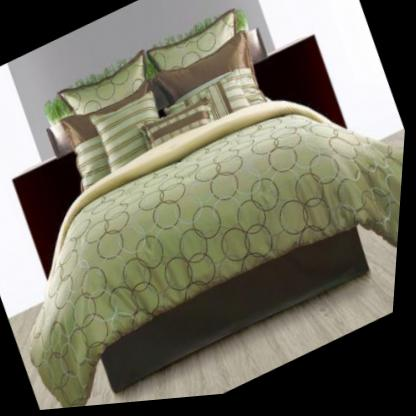Bed: (2, 33, 411, 414)
Wooden floor: (125, 283, 399, 406)
